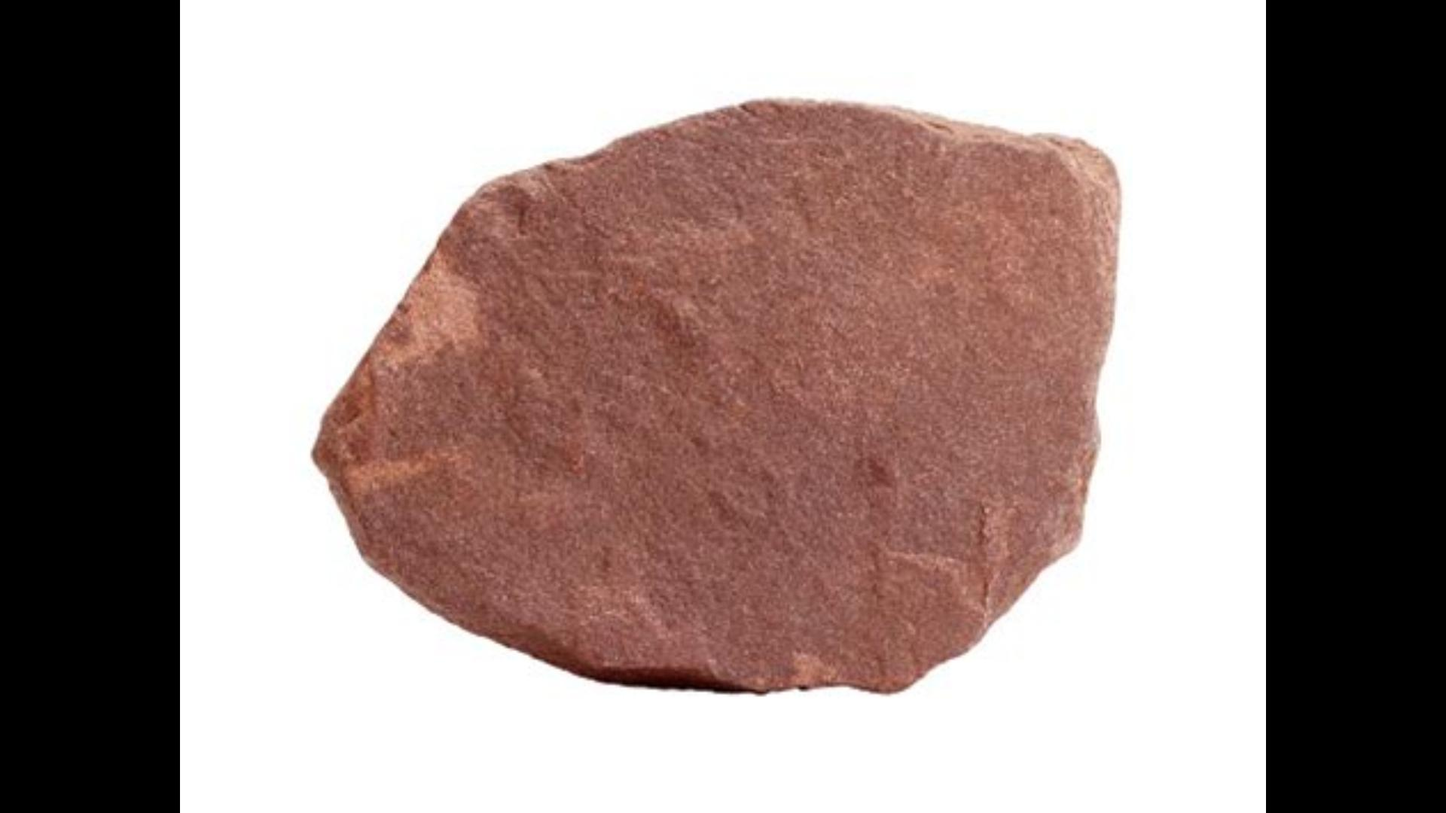rock: (315, 101, 1110, 685)
